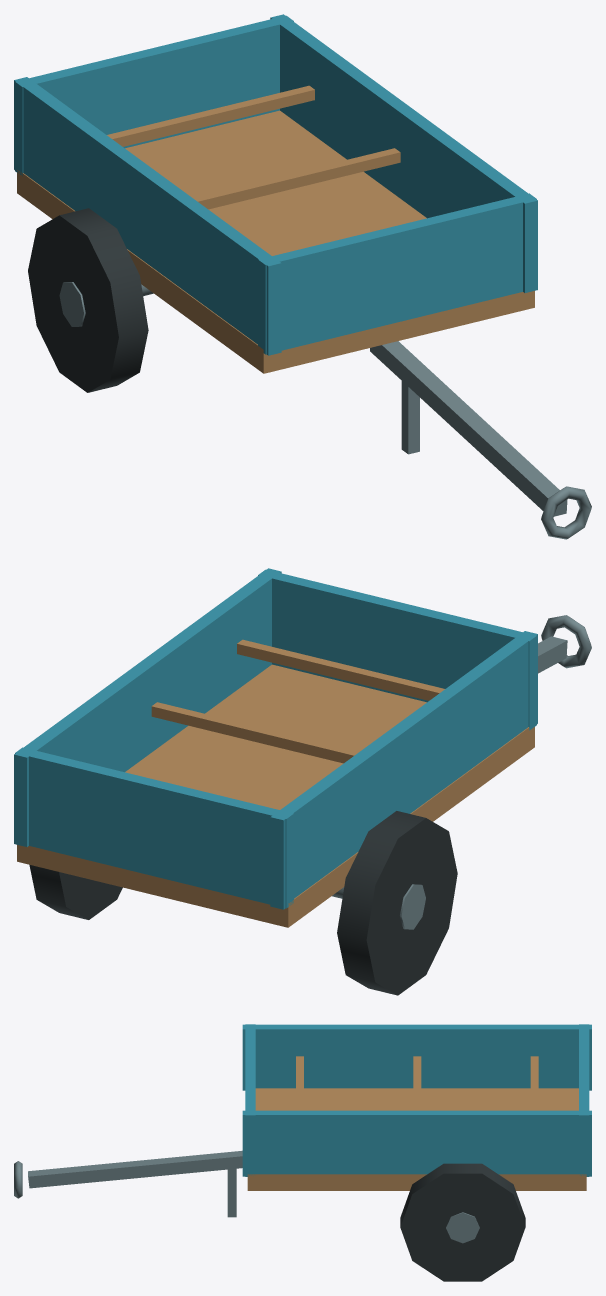
File: trailer.source.glb
The picture shows the model from 3 angles, top to bottom: view 1: azimuth 30°, elevation 25°; view 2: azimuth 150°, elevation 25°; view 3: azimuth 270°, elevation 25°; orthographic projection. The views are drawn at different scales.
Visible parts, largest first — view 1: trailer-bed-floor-mesh, trailer-bed-left-mesh, trailer-bed-front-mesh, trailer-bed-right-mesh, trailer-bed-rear-mesh, trailer-tire-mesh, trailer-drawbar-mesh, trailer-bed-slat--0.3-mesh, trailer-bed-slat--1.2-mesh, trailer-hitch-eye-mesh, trailer-jack-leg-mesh, trailer-hub-mesh; view 2: trailer-bed-floor-mesh, trailer-bed-left-mesh, trailer-bed-rear-mesh, trailer-bed-right-mesh, trailer-tire-mesh (×2), trailer-bed-front-mesh, trailer-bed-slat--0.3-mesh, trailer-bed-slat-0.6-mesh, trailer-hitch-eye-mesh, trailer-hub-mesh, trailer-drawbar-mesh; view 3: trailer-bed-right-mesh, trailer-bed-left-mesh, trailer-bed-floor-mesh, trailer-tire-mesh, trailer-drawbar-mesh, trailer-bed-rear-mesh, trailer-bed-front-mesh, trailer-hub-mesh, trailer-bed-slat--1.2-mesh, trailer-bed-slat--0.3-mesh, trailer-jack-leg-mesh, trailer-bed-slat-0.6-mesh.
Part boxes in pixels (x1=…): trailer-bed-floor-mesh: x1=17, y1=110, x2=534, y2=373; trailer-bed-left-mesh: x1=14, y1=77, x2=281, y2=355; trailer-bed-front-mesh: x1=258, y1=193, x2=536, y2=354; trailer-bed-right-mesh: x1=270, y1=14, x2=537, y2=292; trailer-bed-rear-mesh: x1=15, y1=15, x2=293, y2=176; trailer-tire-mesh: x1=28, y1=208, x2=148, y2=392; trailer-drawbar-mesh: x1=370, y1=341, x2=567, y2=516; trailer-bed-slat--0.3-mesh: x1=192, y1=148, x2=400, y2=209; trailer-bed-slat--1.2-mesh: x1=107, y1=85, x2=314, y2=146; trailer-hitch-eye-mesh: x1=541, y1=486, x2=591, y2=539; trailer-jack-leg-mesh: x1=401, y1=381, x2=419, y2=454; trailer-hub-mesh: x1=59, y1=282, x2=85, y2=326; trailer-bed-floor-mesh: x1=17, y1=664, x2=534, y2=927; trailer-bed-left-mesh: x1=270, y1=631, x2=537, y2=909; trailer-bed-rear-mesh: x1=15, y1=747, x2=293, y2=908; trailer-bed-right-mesh: x1=14, y1=568, x2=281, y2=846; trailer-tire-mesh (×2): x1=29, y1=811, x2=457, y2=995; trailer-bed-front-mesh: x1=258, y1=569, x2=536, y2=730; trailer-bed-slat--0.3-mesh: x1=151, y1=702, x2=359, y2=763; trailer-bed-slat-0.6-mesh: x1=237, y1=639, x2=444, y2=700; trailer-hitch-eye-mesh: x1=541, y1=615, x2=591, y2=668; trailer-hub-mesh: x1=400, y1=884, x2=425, y2=929; trailer-drawbar-mesh: x1=538, y1=636, x2=567, y2=673; trailer-bed-right-mesh: x1=242, y1=1110, x2=591, y2=1176; trailer-bed-left-mesh: x1=242, y1=1024, x2=591, y2=1090; trailer-bed-floor-mesh: x1=247, y1=1088, x2=586, y2=1190; trailer-tire-mesh: x1=400, y1=1163, x2=525, y2=1281; trailer-drawbar-mesh: x1=28, y1=1150, x2=242, y2=1188; trailer-bed-rear-mesh: x1=579, y1=1024, x2=589, y2=1176; trailer-bed-front-mesh: x1=245, y1=1024, x2=255, y2=1176; trailer-hub-mesh: x1=446, y1=1212, x2=479, y2=1243; trailer-bed-slat--1.2-mesh: x1=530, y1=1056, x2=538, y2=1110; trailer-bed-slat--0.3-mesh: x1=413, y1=1056, x2=421, y2=1110; trailer-jack-leg-mesh: x1=227, y1=1168, x2=236, y2=1217; trailer-bed-slat-0.6-mesh: x1=296, y1=1056, x2=303, y2=1110.
Bounding box in the file's own units: 2.08 × 1.31 × 4.43.
